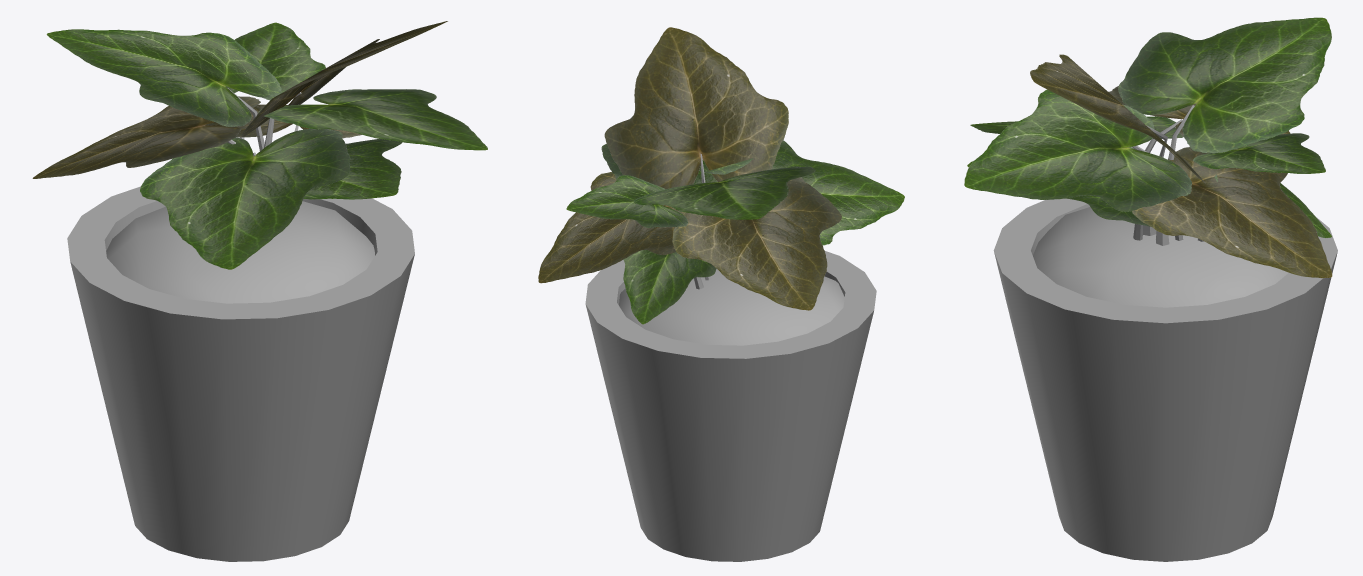
File: flower_pot.fbx
The picture shows the model from 3 angles, left to right: view 1: azimuth 30°, elevation 25°; view 2: azimuth 150°, elevation 25°; view 3: azimuth 270°, elevation 25°; orthographic projection. The views are drawn at different scales.
Parts seen in each view (by area): view 1: pot1, leaf; view 2: pot1, leaf; view 3: pot1, leaf.
Part boxes in pixels (left/top/right/bottom): pot1: left=67, top=88, right=414, bottom=561; leaf: left=32, top=21, right=487, bottom=269; pot1: left=585, top=154, right=876, bottom=561; leaf: left=538, top=27, right=904, bottom=324; pot1: left=993, top=105, right=1337, bottom=561; leaf: left=964, top=17, right=1332, bottom=278.
Bounding box in the file's own units: 22.87 × 30.91 × 22.03.
